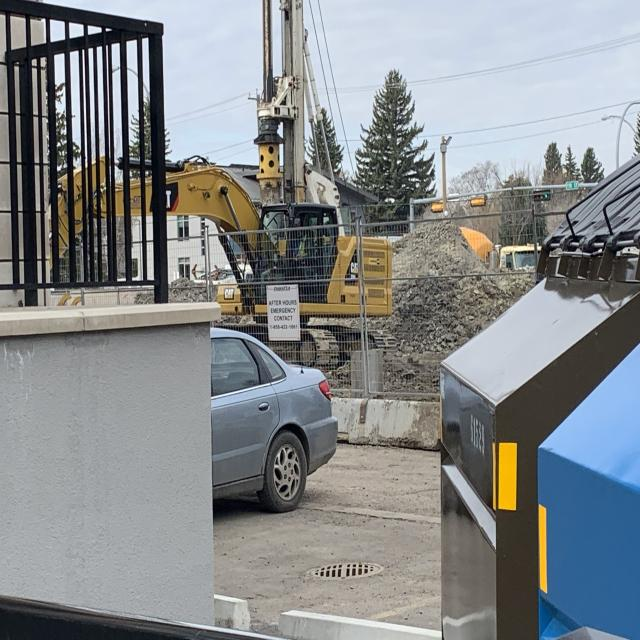excavator: (43, 144, 401, 362)
